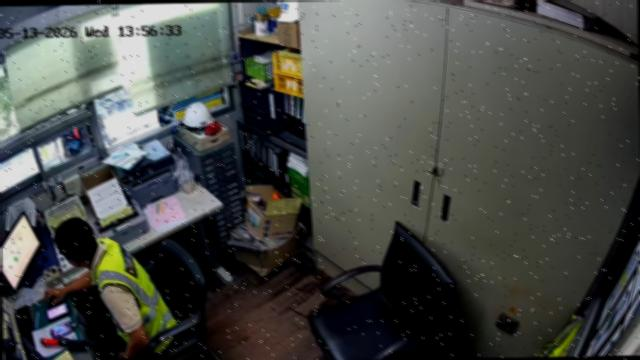Head: (51, 218, 98, 267)
People: (44, 219, 176, 359)
Phone: (44, 303, 69, 319), (48, 321, 73, 337)
